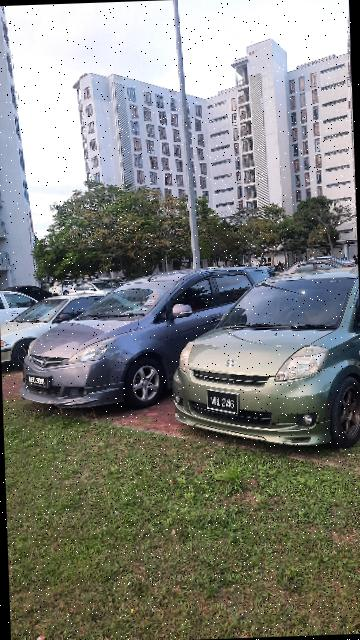License_Plate: (205, 388, 245, 419), (23, 371, 53, 391)
car: (17, 263, 278, 420), (167, 271, 360, 456)
